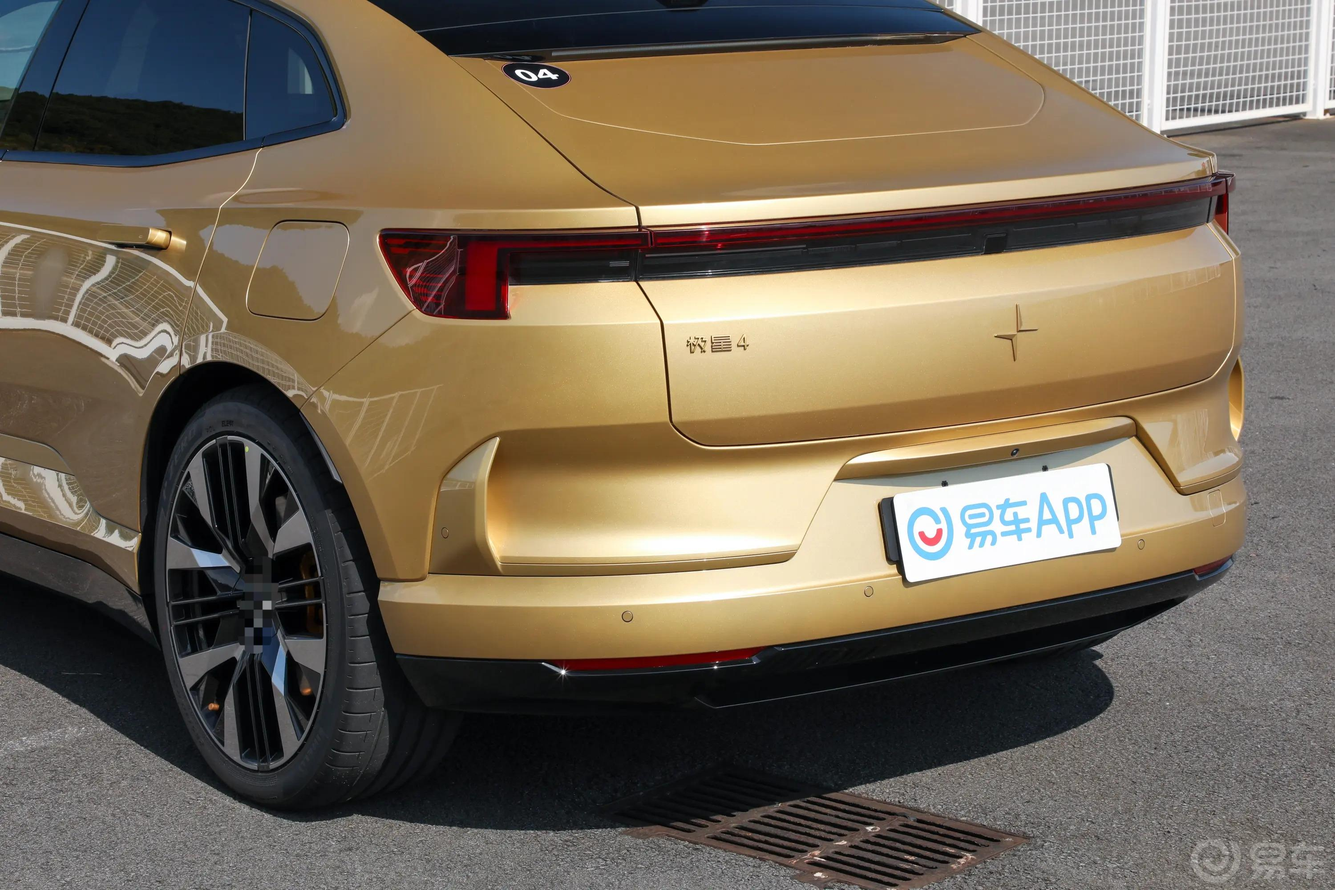Polestar: (995, 303, 1038, 361)
